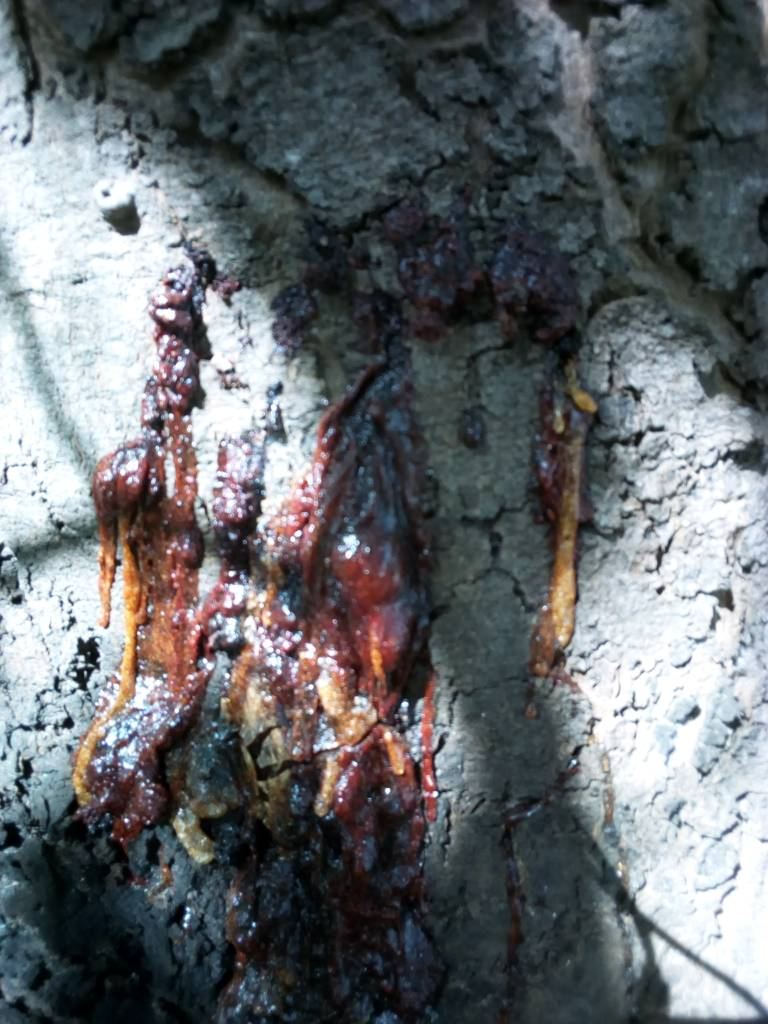Gommose: (85, 289, 436, 1024)
